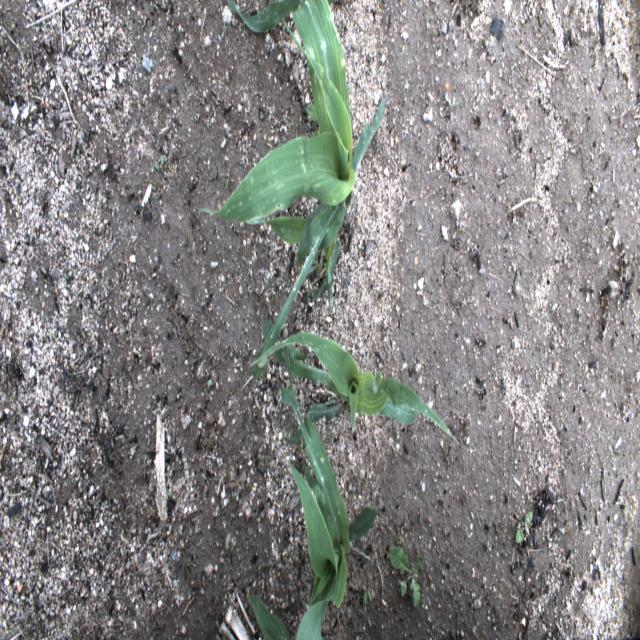crop: (199, 0, 386, 382), (248, 345, 384, 639), (247, 334, 461, 446)
weed: (388, 548, 425, 608), (516, 510, 533, 545), (363, 574, 372, 608)
